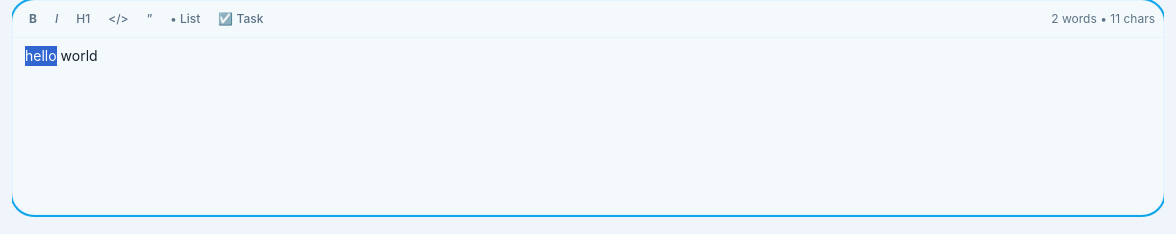
MarkdownEditor › bold button wraps the selected text with **
What coordinates should you click on to do the following:
click the button named "Bold"
I would click on:
 (33, 19)
Its box is [21, 7, 45, 31].
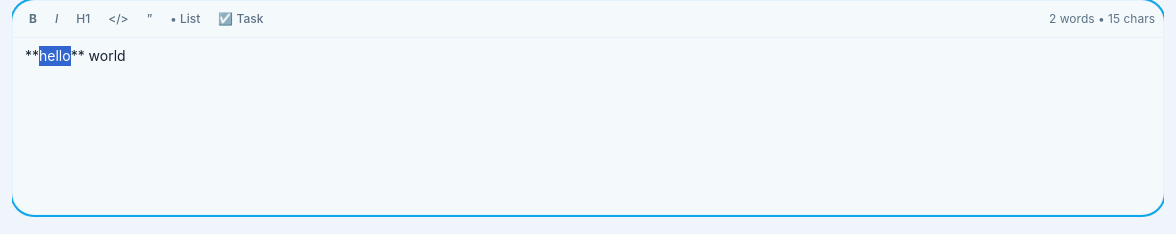
Check: the text box named "Note" holds "**hello** world"
